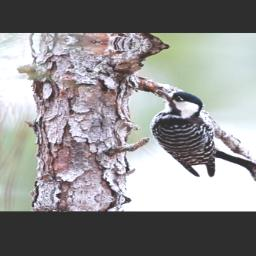Woodpecker: (138, 86, 256, 182)
